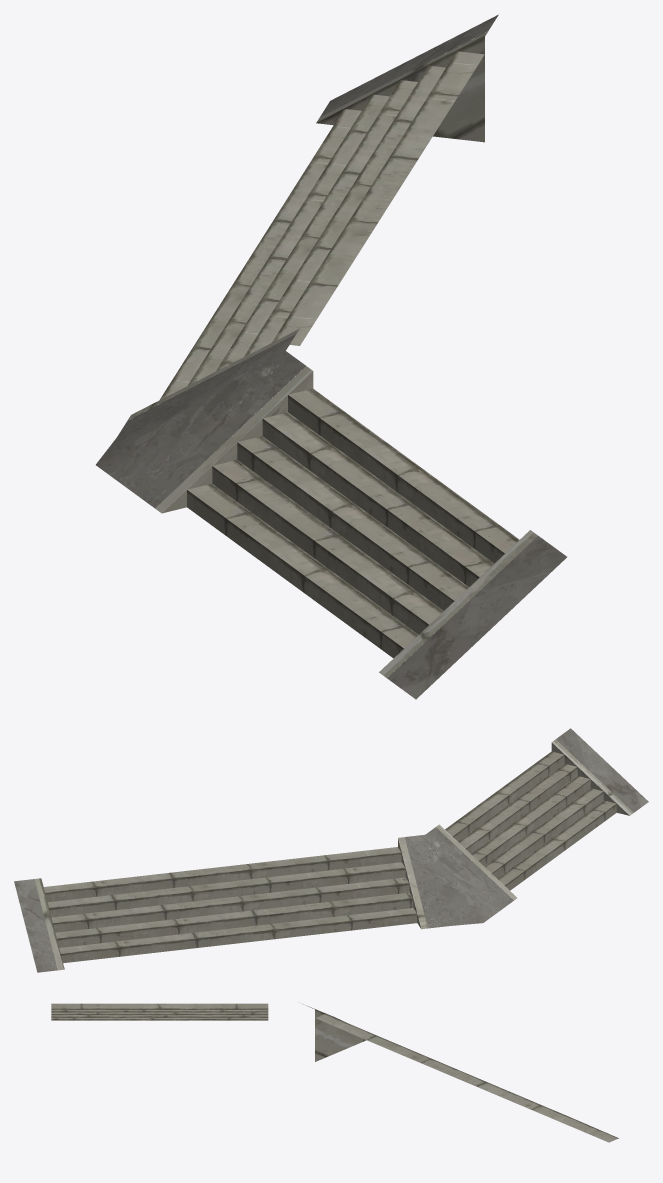
3 views of the same model, one above another, from view 1: azimuth 30°, elevation 25°; view 2: azimuth 150°, elevation 25°; view 3: azimuth 270°, elevation 25° (orthographic). The views are drawn at different scales.
Parts seen in each view (by area): view 1: body0_model0_lod0_mesh1, body0_model0_lod0_mesh0; view 2: body0_model0_lod0_mesh1, body0_model0_lod0_mesh0; view 3: body0_model0_lod0_mesh1.
Boxes of the visible parts, x1=… form: body0_model0_lod0_mesh1: x1=128, y1=31, x2=537, y2=677; body0_model0_lod0_mesh0: x1=96, y1=14, x2=566, y2=699; body0_model0_lod0_mesh1: x1=34, y1=739, x2=633, y2=970; body0_model0_lod0_mesh0: x1=14, y1=728, x2=648, y2=972; body0_model0_lod0_mesh1: x1=51, y1=1003, x2=618, y2=1142.
Size of the model in its own units: 312 by 48 by 523.
Materials: 2 (2 with a texture image).
